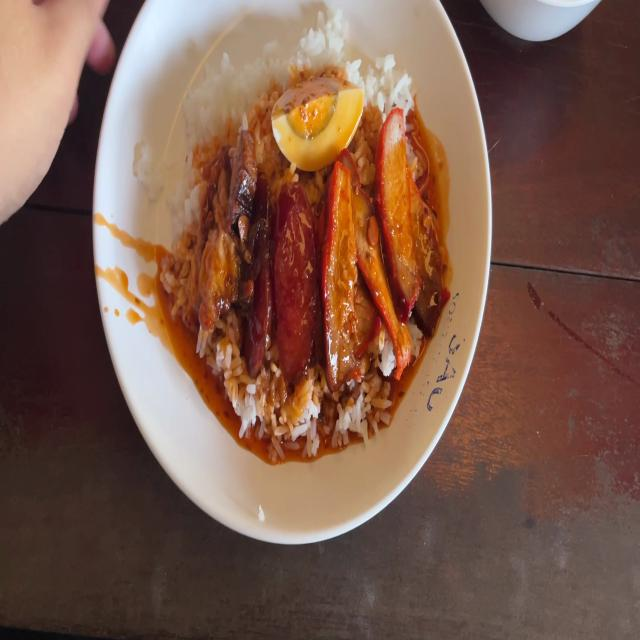01boiled_egg: (281, 80, 363, 159)
01chainese_sausage: (253, 186, 311, 366)
01crispy_pork: (200, 127, 252, 344)
01red_pork: (333, 131, 422, 380)
01red_pork_and_crispy_pork: (179, 38, 431, 435)
01rice: (192, 43, 275, 144), (168, 159, 202, 345)
